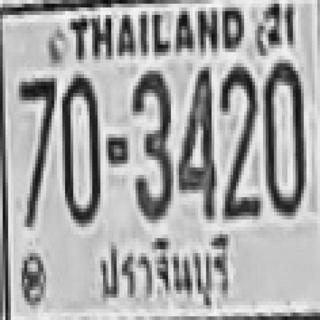N00: (263, 59, 304, 212), (60, 73, 98, 221)
N02: (218, 65, 256, 199)
N03: (130, 69, 171, 218)
N04: (176, 63, 214, 216)
N07: (16, 76, 54, 221), (16, 74, 54, 197), (16, 76, 54, 180)
P49: (97, 232, 238, 313)
